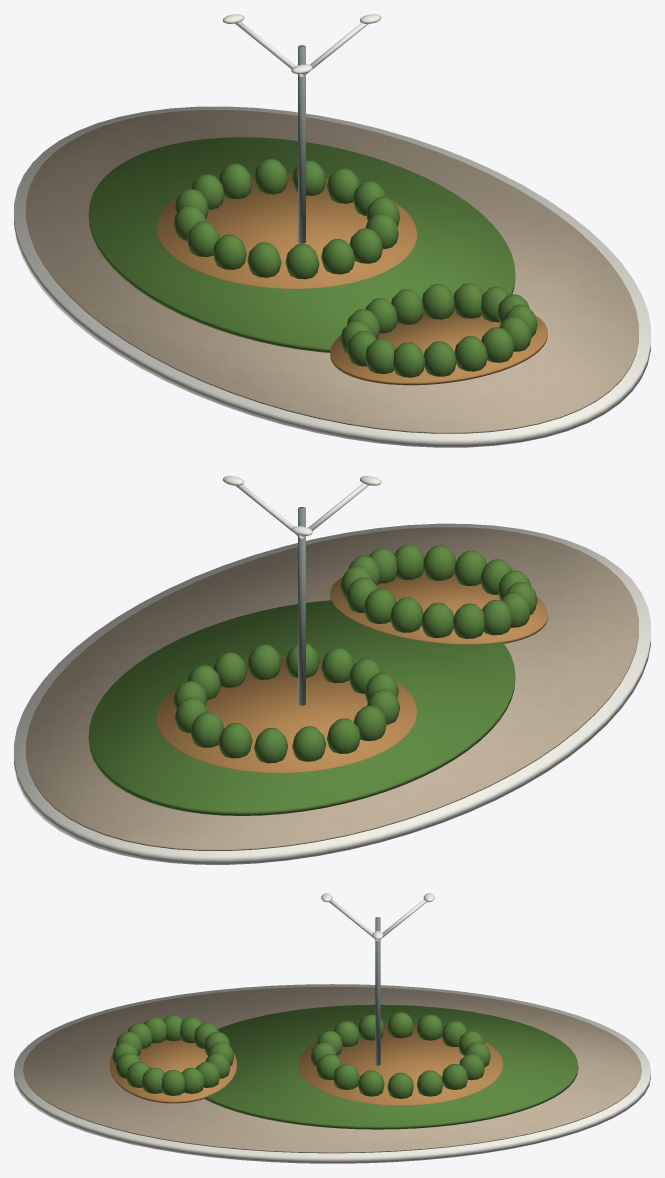
File: long-xuyen-nguyen-hue-island.glb
The picture shows the model from 3 angles, top to bottom: view 1: azimuth 30°, elevation 25°; view 2: azimuth 150°, elevation 25°; view 3: azimuth 270°, elevation 25°; orthographic projection. The views are drawn at different scales.
Parts seen in each view (by area): view 1: Nguyen_Hue_island_paving, Nguyen_Hue_island_green, Nguyen_Hue_island_white, Nguyen_Hue_island_flower, Nguyen_Hue_island_metal; view 2: Nguyen_Hue_island_green, Nguyen_Hue_island_paving, Nguyen_Hue_island_white, Nguyen_Hue_island_flower, Nguyen_Hue_island_metal; view 3: Nguyen_Hue_island_green, Nguyen_Hue_island_paving, Nguyen_Hue_island_white, Nguyen_Hue_island_flower, Nguyen_Hue_island_metal.
Part boxes in pixels (x1,y1,x2,y2): Nguyen_Hue_island_paving: (26,110,638,433); Nguyen_Hue_island_green: (88,137,537,377); Nguyen_Hue_island_white: (14,14,650,447); Nguyen_Hue_island_flower: (156,174,547,385); Nguyen_Hue_island_metal: (298,45,305,243); Nguyen_Hue_island_green: (88,544,537,815); Nguyen_Hue_island_paving: (26,527,638,850); Nguyen_Hue_island_white: (14,476,650,864); Nguyen_Hue_island_flower: (156,570,547,772); Nguyen_Hue_island_metal: (298,507,305,705); Nguyen_Hue_island_green: (112,1004,578,1129); Nguyen_Hue_island_paving: (23,986,641,1153); Nguyen_Hue_island_white: (14,893,650,1163); Nguyen_Hue_island_flower: (109,1024,502,1105); Nguyen_Hue_island_metal: (375,917,380,1065).
Bounding box in the file's own units: 18 × 8.22 × 28.
Materials: 5 (1 with a texture image).
